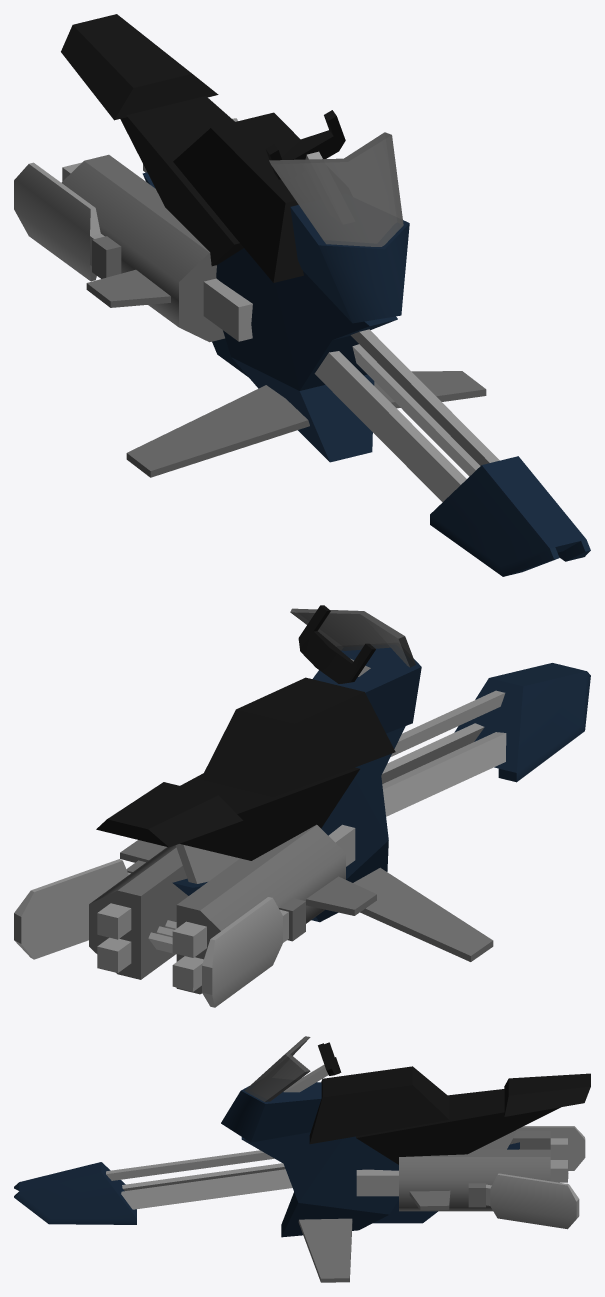
Rendered from HoverBike.fbx.
3 views of the same model, one above another, from view 1: azimuth 30°, elevation 25°; view 2: azimuth 150°, elevation 25°; view 3: azimuth 270°, elevation 25° (orthographic). The views are drawn at different scales.
Parts seen in each view (by area): view 1: Main_geo, Seat_geo, Details_geo, Engine_geo, Wings_geo, Glass_geo, Flap_R_geo, Handle_geo; view 2: Seat_geo, Main_geo, Engine_geo, Details_geo, Wings_geo, Flap_L_geo, Flap_R_geo, Engine2_geo, Glass_geo, Handle_geo; view 3: Main_geo, Seat_geo, Details_geo, Engine_geo, Flap_L_geo, Wings_geo, Glass_geo, Flap_R_geo, Engine2_geo, Pivot_geo, Handle_geo.
Boxes of the visible parts, bbox=[...] form: Main_geo: bbox=[142, 172, 590, 576]; Seat_geo: bbox=[61, 14, 303, 282]; Details_geo: bbox=[203, 278, 499, 502]; Engine_geo: bbox=[61, 154, 224, 342]; Wings_geo: bbox=[86, 269, 486, 477]; Glass_geo: bbox=[269, 132, 403, 246]; Flap_R_geo: bbox=[14, 162, 104, 281]; Handle_geo: bbox=[265, 110, 345, 179]; Seat_geo: bbox=[96, 677, 395, 860]; Main_geo: bbox=[172, 645, 590, 922]; Engine_geo: bbox=[89, 824, 345, 994]; Details_geo: bbox=[148, 690, 506, 954]; Wings_geo: bbox=[120, 840, 493, 961]; Flap_L_geo: bbox=[14, 859, 130, 959]; Flap_R_geo: bbox=[202, 897, 288, 1007]; Engine2_geo: bbox=[97, 903, 206, 991]; Glass_geo: bbox=[290, 608, 415, 667]; Handle_geo: bbox=[298, 605, 375, 683]; Main_geo: bbox=[14, 1082, 519, 1237]; Seat_geo: bbox=[309, 1066, 590, 1164]; Details_geo: bbox=[106, 1129, 517, 1209]; Engine_geo: bbox=[399, 1131, 550, 1211]; Flap_L_geo: bbox=[486, 1173, 579, 1229]; Wings_geo: bbox=[298, 1190, 450, 1282]; Glass_geo: bbox=[244, 1036, 310, 1101]; Flap_R_geo: bbox=[517, 1126, 585, 1170]; Engine2_geo: bbox=[550, 1138, 568, 1183]; Pivot_geo: bbox=[283, 1065, 328, 1092]; Handle_geo: bbox=[318, 1042, 341, 1075].
Bounding box in the file's own units: 6.72 × 6.16 × 16.57.
